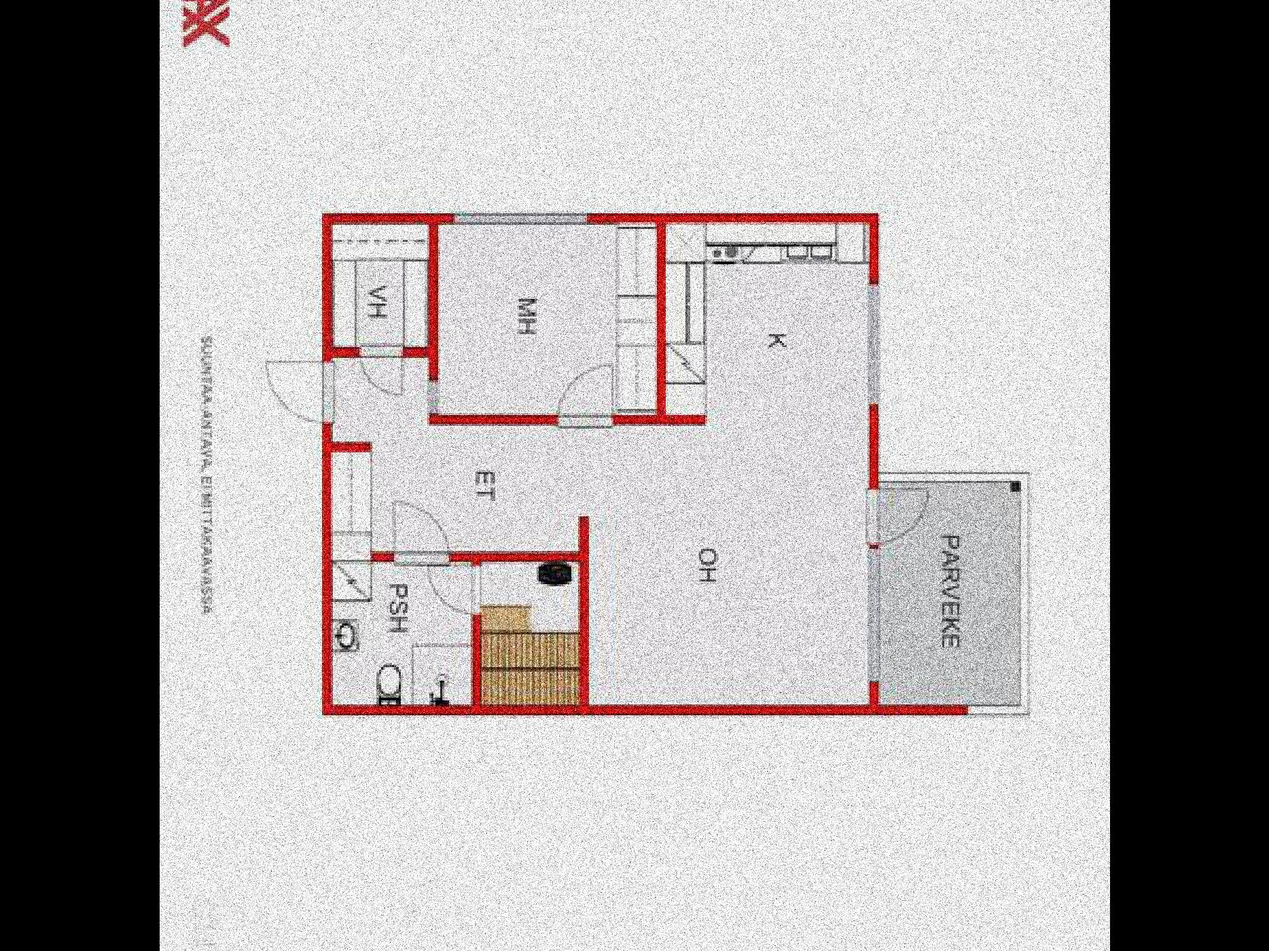door: (260, 356, 341, 428), (387, 489, 450, 572), (865, 488, 930, 548), (557, 364, 613, 430), (423, 563, 482, 613), (359, 344, 406, 394)
window: (857, 285, 886, 408), (863, 550, 882, 683), (450, 211, 590, 229)
zone: (325, 221, 869, 711), (443, 223, 654, 416), (880, 483, 1024, 704), (329, 560, 471, 704), (480, 559, 580, 704), (336, 224, 430, 344)
